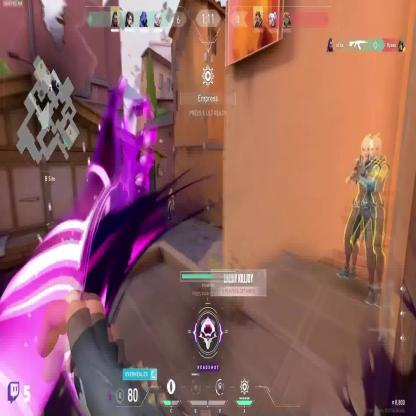enemy: (338, 134, 389, 320), (167, 188, 176, 219)
enemy_head: (359, 134, 379, 169), (169, 188, 172, 194)
